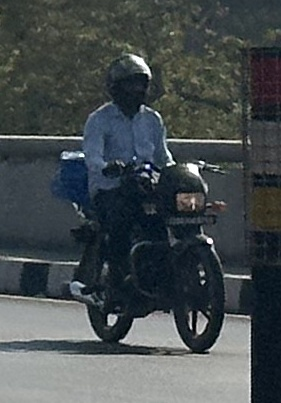BikeWithRider: (45, 47, 235, 357)
Helmet: (97, 48, 157, 115)
